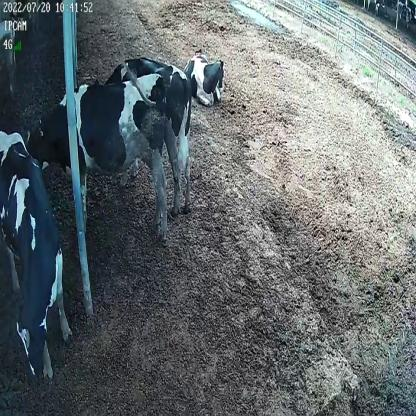cow: (20, 75, 171, 242), (0, 129, 75, 388), (95, 54, 194, 207), (186, 46, 226, 107)
